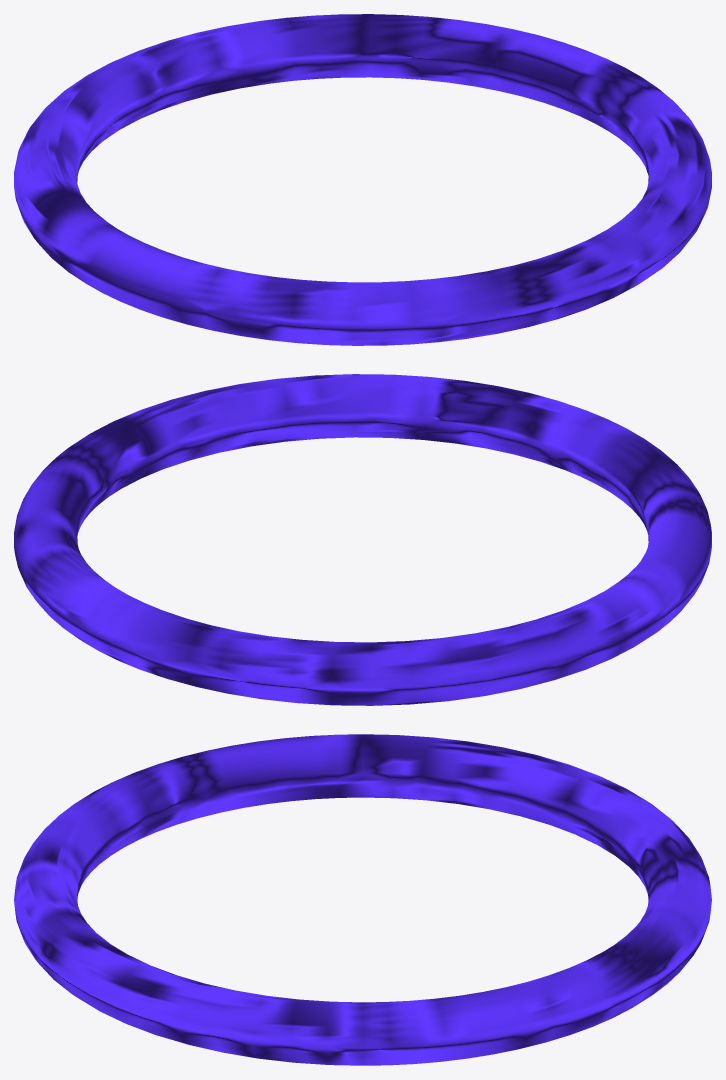
File: ring.fbx
The picture shows the model from 3 angles, top to bottom: view 1: azimuth 30°, elevation 25°; view 2: azimuth 150°, elevation 25°; view 3: azimuth 270°, elevation 25°; orthographic projection.
Parts seen in each view (by area): view 1: Body1; view 2: Body1; view 3: Body1.
Boxes of the visible parts, box(x1,y1,x2,y2) form: Body1: box(14, 14, 711, 345); Body1: box(14, 374, 711, 705); Body1: box(14, 734, 711, 1065).
Bounding box in the file's own units: 1100 × 100 × 1100.
